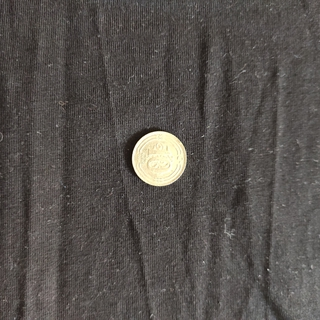10KURUS: (130, 128, 189, 188)
